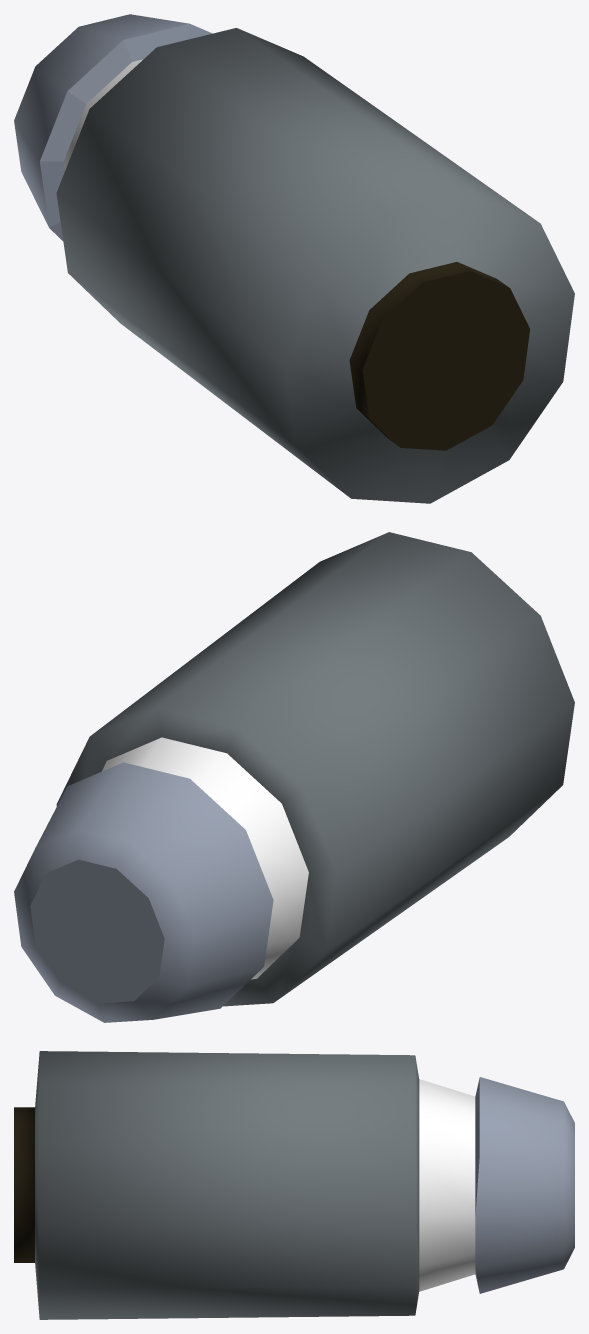
Rendered from sc_miniTankMissile.FBX.
3 views of the same model, one above another, from view 1: azimuth 30°, elevation 25°; view 2: azimuth 150°, elevation 25°; view 3: azimuth 270°, elevation 25° (orthographic). The views are drawn at different scales.
Visible parts, largest first — view 1: sc_miniTankMissile, sc_miniTankMissile_glow; view 2: sc_miniTankMissile, sc_miniTankMissile_glow; view 3: sc_miniTankMissile, sc_miniTankMissile_glow.
Part boxes in pixels (left/top/right/bottom): sc_miniTankMissile: left=14, top=14, right=574, bottom=503; sc_miniTankMissile_glow: left=63, top=59, right=142, bottom=170; sc_miniTankMissile: left=14, top=532, right=574, bottom=1022; sc_miniTankMissile_glow: left=102, top=737, right=308, bottom=979; sc_miniTankMissile: left=14, top=1051, right=574, bottom=1319; sc_miniTankMissile_glow: left=419, top=1079, right=475, bottom=1291.
Bounding box in the file's own units: 0.4129 × 0.4087 × 0.8615.
